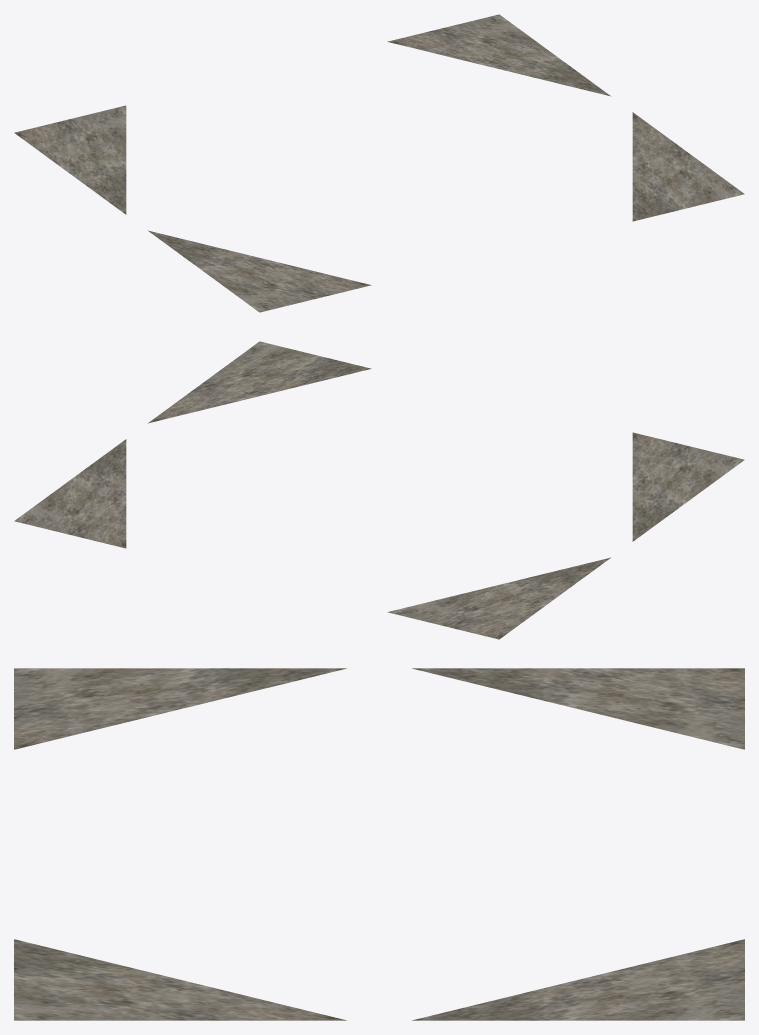
File: tea_ground.glb
3 renders of one model, top to bottom at view 1: azimuth 30°, elevation 25°; view 2: azimuth 150°, elevation 25°; view 3: azimuth 270°, elevation 25°, orthographic. The views are drawn at different scales.
Visible parts, largest first — view 1: tea_ground0; view 2: tea_ground0; view 3: tea_ground0.
Boxes of the visible parts, x1,y1,x2,y2 form: tea_ground0: [14, 14, 744, 312]; tea_ground0: [14, 341, 744, 639]; tea_ground0: [14, 668, 744, 1020].
Bounding box in the file's own units: 13.8 × 0 × 12.1.
1 material, 1 textured.
